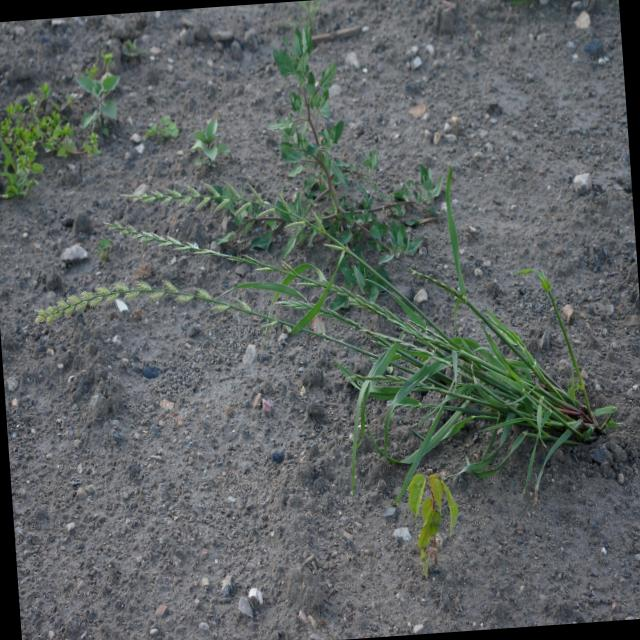Lolium: (124, 161, 326, 246), (34, 272, 254, 328), (106, 215, 215, 260)
